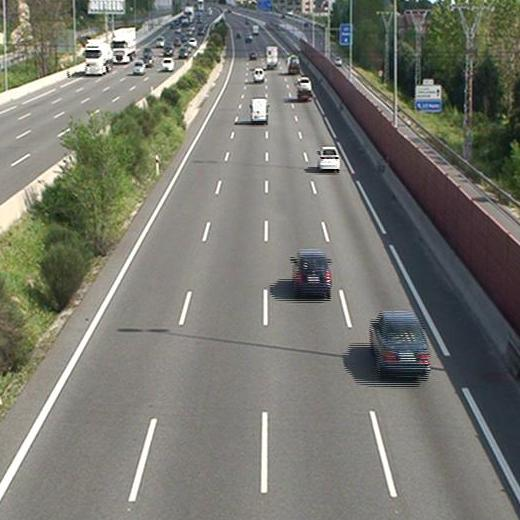car: (368, 311, 430, 377), (289, 252, 331, 295), (316, 145, 340, 173), (299, 79, 313, 91)
small-truck: (294, 75, 312, 103), (263, 47, 279, 69), (288, 56, 301, 74)
van: (250, 99, 268, 124), (252, 68, 265, 84)
